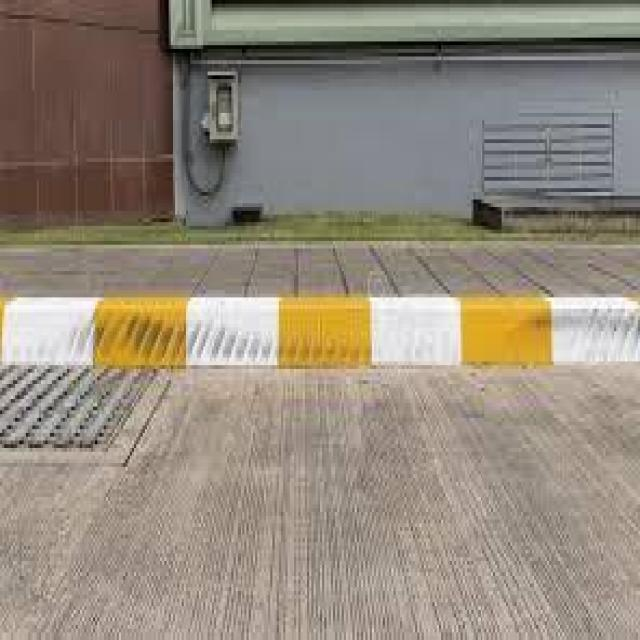curb: (7, 293, 639, 368)
